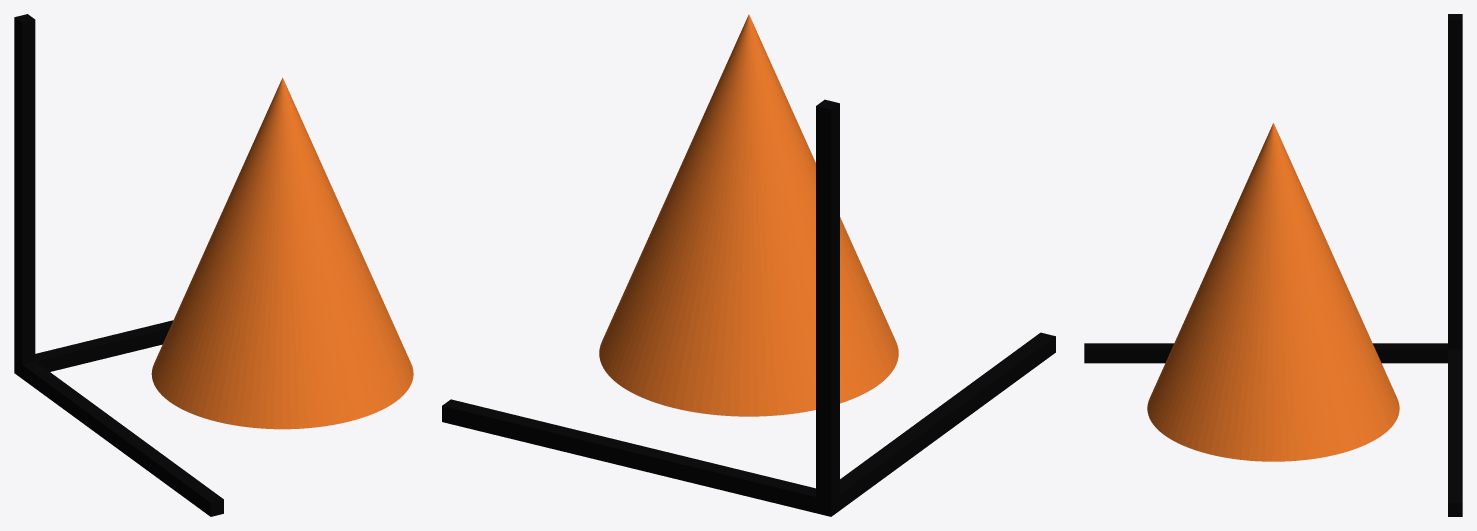
File: cono.gltf
The picture shows the model from 3 angles, left to right: view 1: azimuth 30°, elevation 25°; view 2: azimuth 150°, elevation 25°; view 3: azimuth 270°, elevation 25°; orthographic projection. The views are drawn at different scales.
Bounding box in the file's own units: 0.06 × 0.06 × 0.06.
